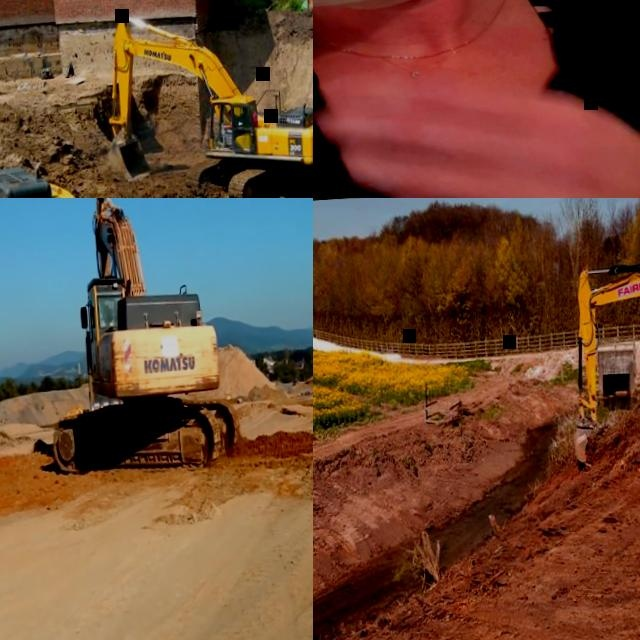NO-Safety Vest: (313, 0, 640, 198)
Person: (313, 0, 640, 198), (99, 305, 114, 328), (227, 108, 233, 128)
Safety Vest: (100, 316, 113, 326)
machinery: (37, 198, 244, 479), (100, 0, 313, 198), (559, 230, 640, 469), (0, 0, 92, 198)
